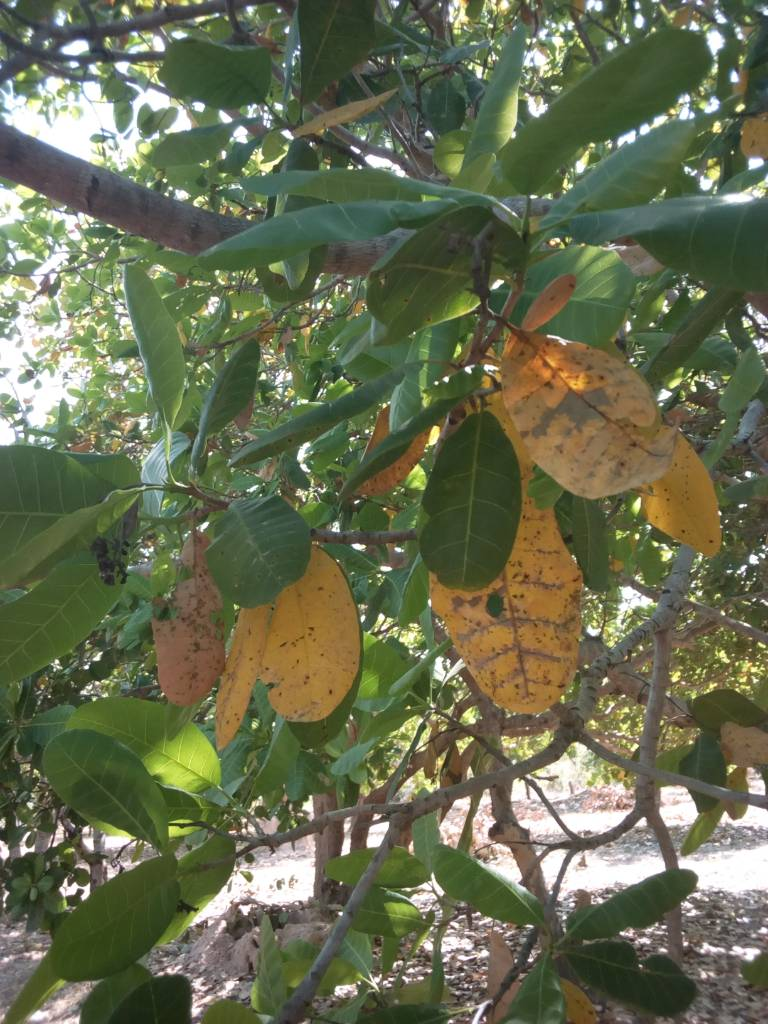Anthracnose: (500, 330, 669, 491), (185, 605, 358, 741), (438, 597, 580, 710)
